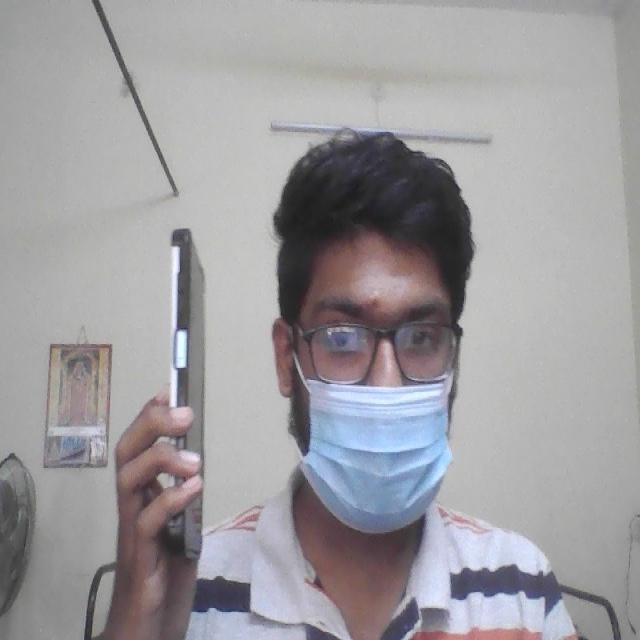Mobile: (159, 224, 211, 567)
